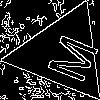M: (37, 28, 100, 85)
